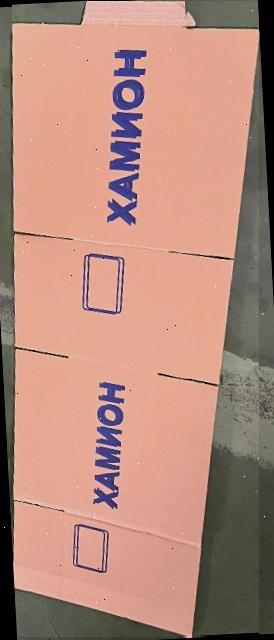box: (12, 2, 259, 636)
